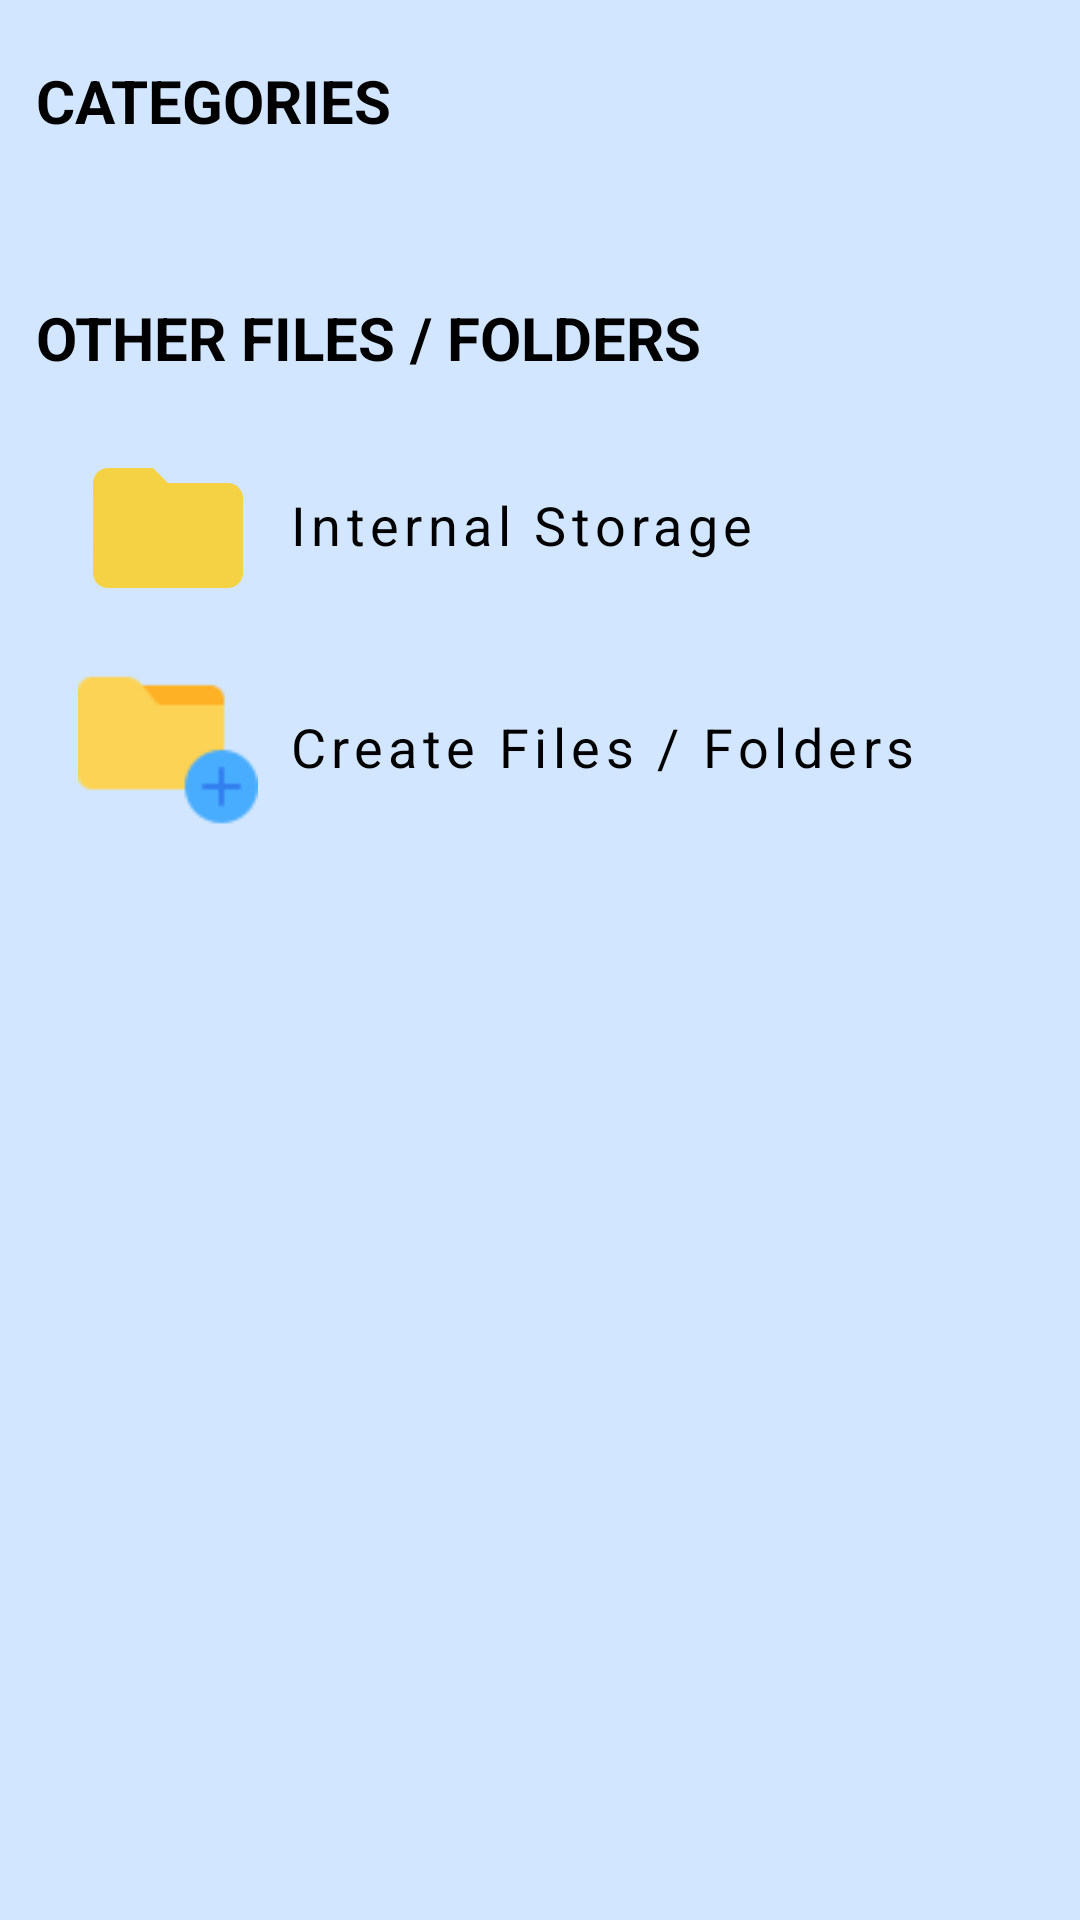

Where icons sit on this 1080px×1920px app screen, as (x1=x1, y1=y1, x2=x2, y2=y2):
create folder: (x1=78, y1=676, x2=258, y2=824)
